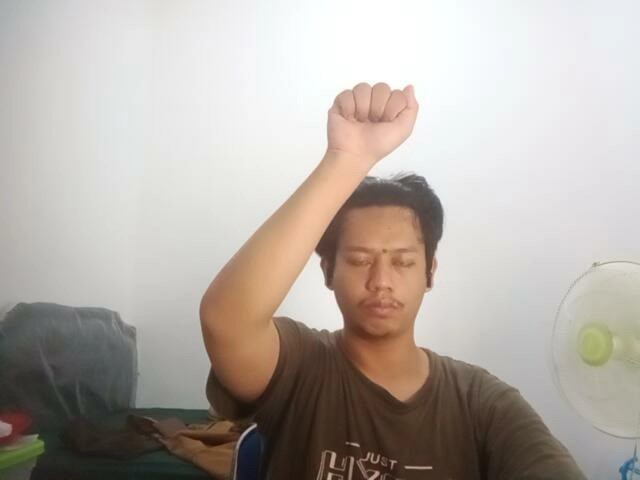A: (322, 70, 432, 165)
